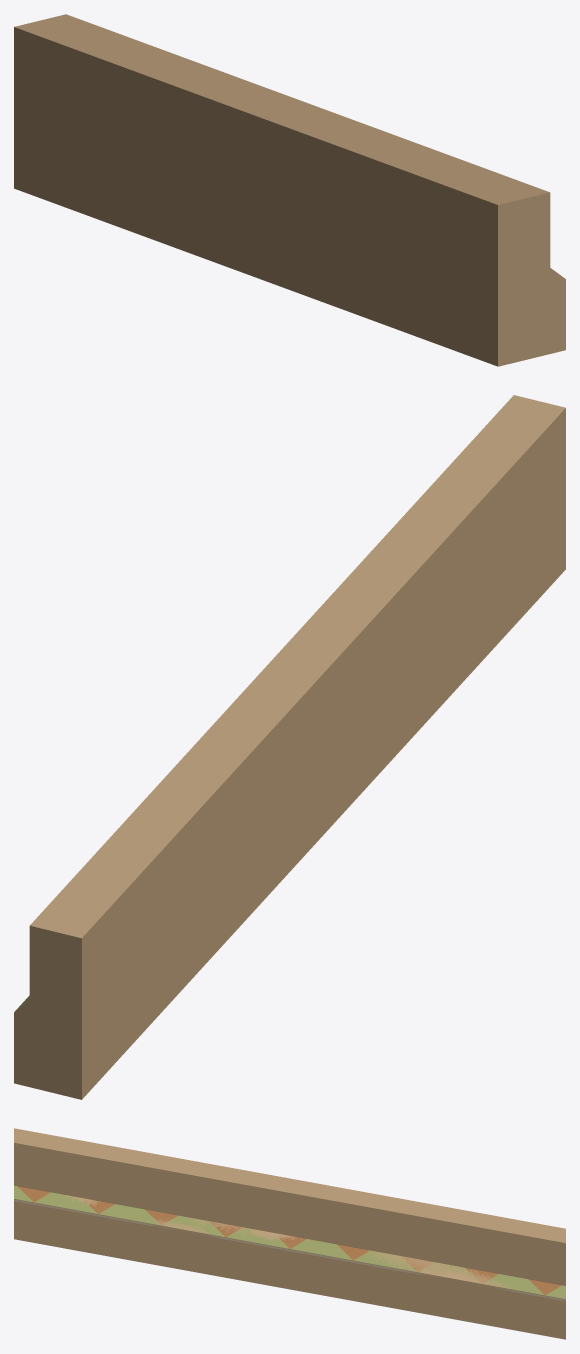
The model's file is egypt_rampwall1.fbx.
The picture shows the model from 3 angles, top to bottom: view 1: azimuth 30°, elevation 25°; view 2: azimuth 150°, elevation 25°; view 3: azimuth 270°, elevation 25°; orthographic projection. The views are drawn at different scales.
Visible parts, largest first — view 1: egypt_rampwall; view 2: egypt_rampwall; view 3: egypt_rampwall.
Part boxes in pixels (x1,y1,x2,y2): egypt_rampwall: [14, 14, 565, 366]; egypt_rampwall: [14, 395, 565, 1099]; egypt_rampwall: [14, 1128, 565, 1339].
Size of the model in its own units: 1 by 4.76 by 12.36.
Materials: 1 (1 with a texture image).
